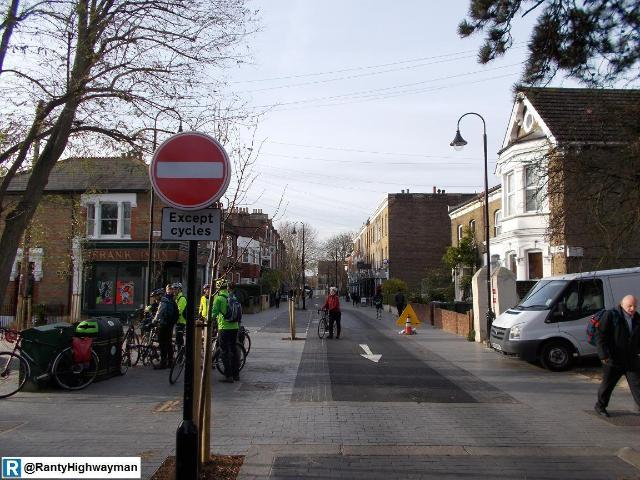B2: (149, 130, 231, 210)
